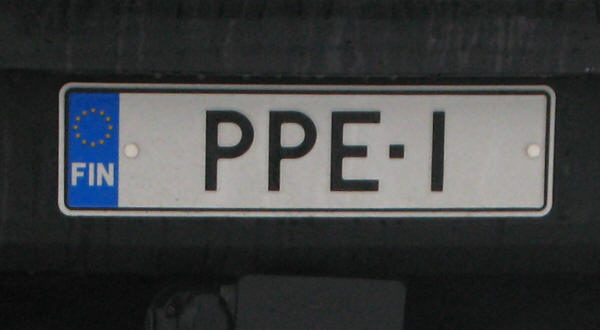license_plate: (62, 85, 551, 215)
